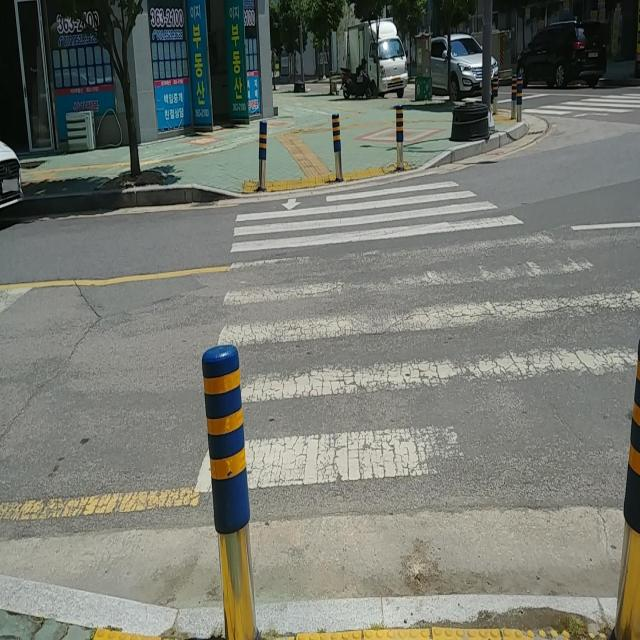횡단보도: (190, 177, 640, 500), (521, 90, 640, 123)
